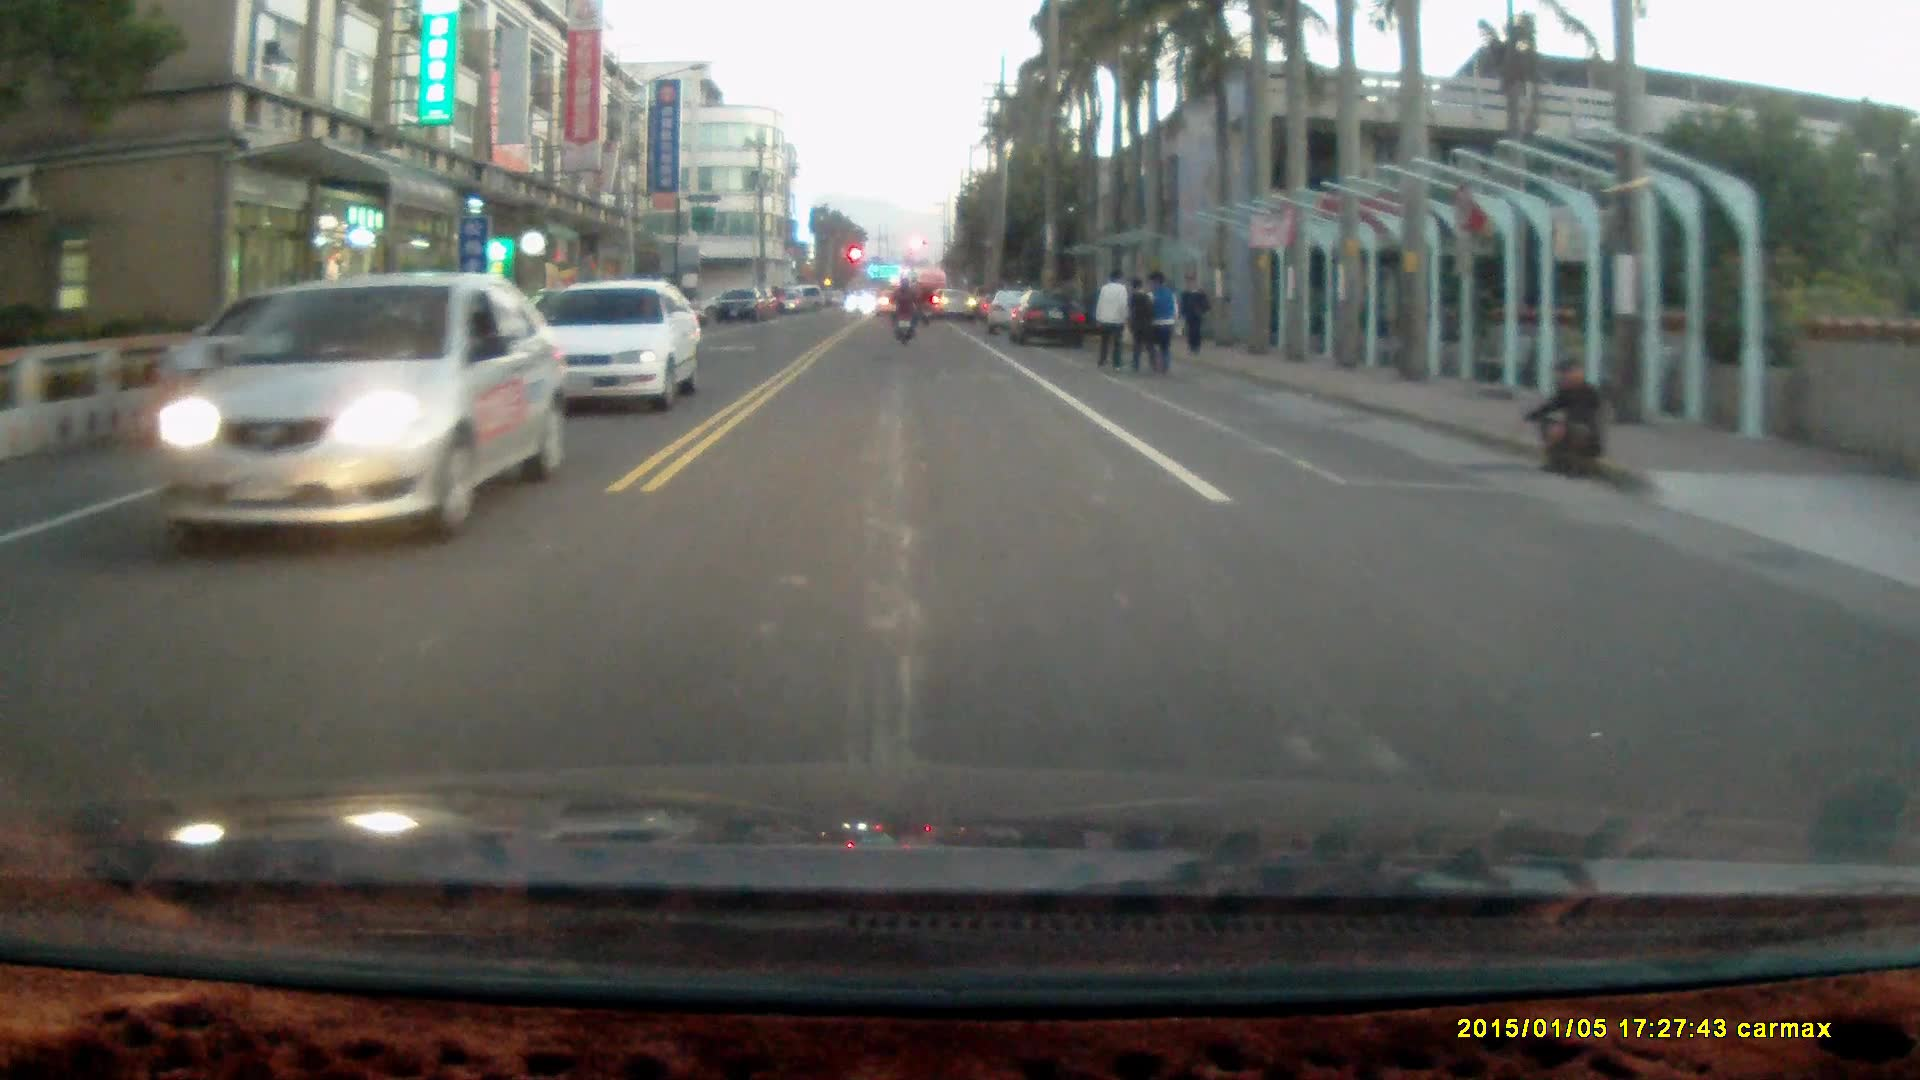pedestrian: (1521, 358, 1608, 480), (1135, 268, 1183, 376), (1092, 265, 1128, 373), (1123, 274, 1158, 373), (1174, 268, 1209, 353)
rider: (885, 274, 917, 345)
vehicle: (113, 271, 554, 548), (533, 279, 706, 414), (1004, 290, 1092, 346)
